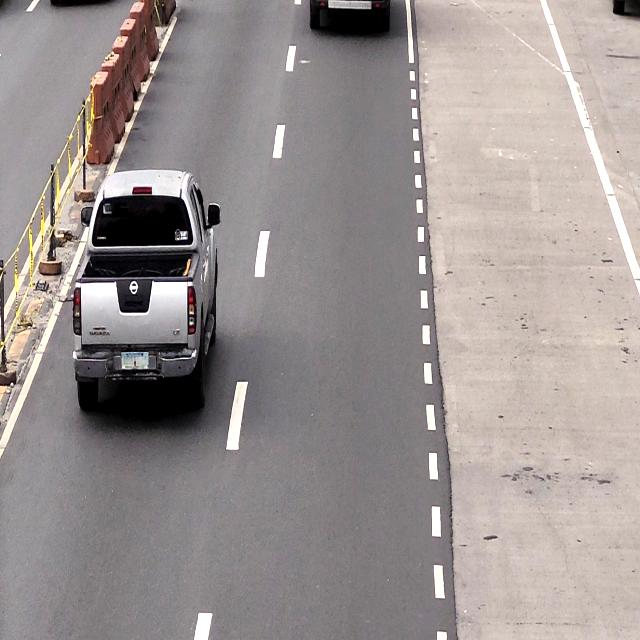Car: (75, 173, 225, 414)
License-Plate: (119, 352, 151, 371)
